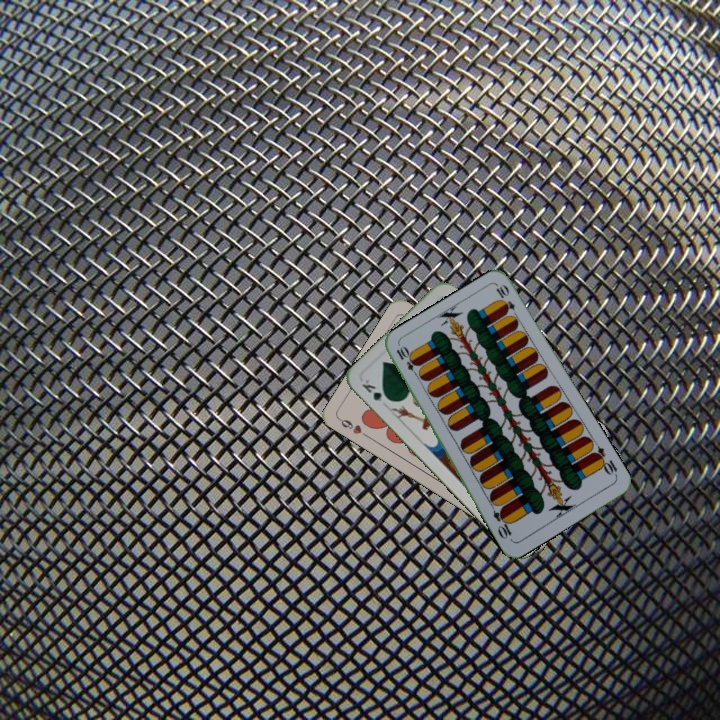E10: (588, 443, 620, 479), (392, 343, 422, 380)
GK: (358, 375, 393, 409)
H9: (335, 414, 372, 440)
